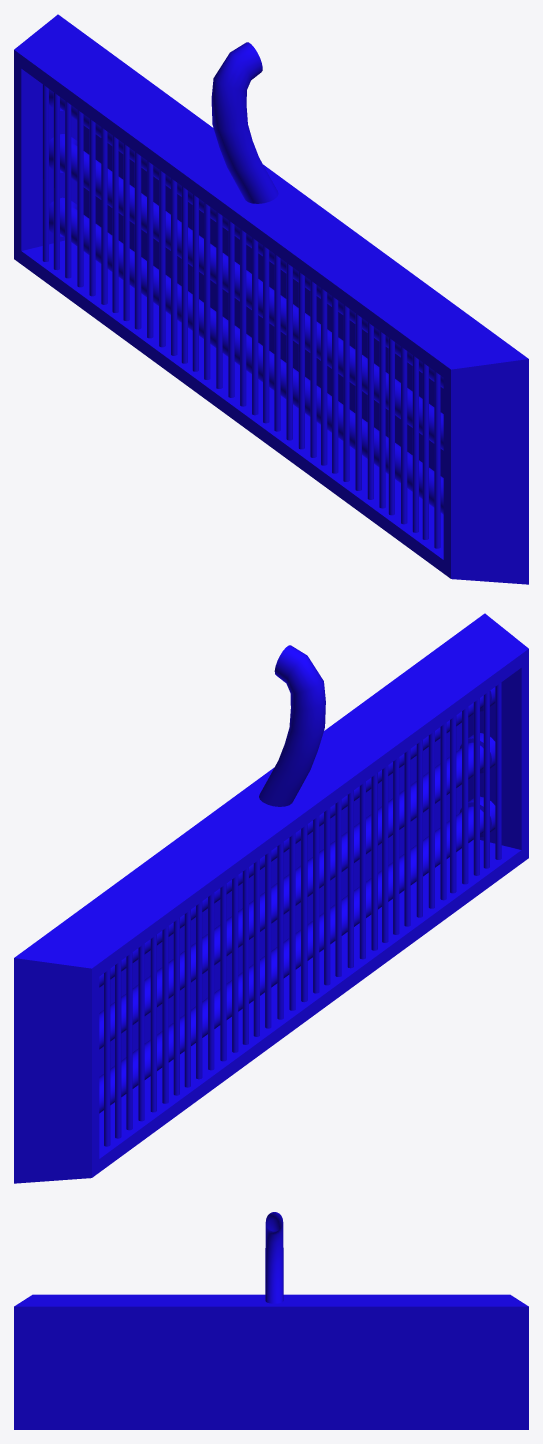
The model's file is light.fbx.
3 views of the same model, one above another, from view 1: azimuth 30°, elevation 25°; view 2: azimuth 150°, elevation 25°; view 3: azimuth 270°, elevation 25° (orthographic). The views are drawn at different scales.
Parts seen in each view (by area): view 1: Light, Cylinder016, Cylinder017, Cylinder053, Cylinder015, Cylinder026, Cylinder019, Cylinder022, Cylinder048, Cylinder050, Cylinder018, Cylinder025 (+28 smaller); view 2: Light, Cylinder016, Cylinder017, Cylinder053, Cylinder015, Cylinder048, Cylinder020, Cylinder026, Cylinder029, Cylinder032, Cylinder033, Cylinder036 (+28 smaller); view 3: Light, Cylinder053.
Part boxes in pixels (box(x1,y1,x2,y2)): Light: box(14, 14, 528, 584); Cylinder016: box(49, 134, 443, 450); Cylinder017: box(49, 197, 443, 514); Cylinder053: box(211, 42, 278, 203); Cylinder015: box(49, 89, 443, 388); Cylinder026: box(134, 152, 141, 329); Cylinder019: box(53, 92, 59, 270); Cylinder022: box(89, 118, 95, 296); Cylinder048: box(388, 338, 394, 515); Cylinder050: box(412, 355, 418, 532); Cylinder018: box(42, 84, 48, 261); Cylinder025: box(123, 143, 129, 321); Light: box(14, 613, 528, 1183); Cylinder016: box(99, 733, 495, 1049); Cylinder017: box(99, 796, 495, 1113); Cylinder053: box(259, 645, 325, 806); Cylinder015: box(99, 687, 495, 987); Cylinder048: box(450, 715, 456, 893); Cylinder020: box(126, 952, 132, 1130); Cylinder026: box(196, 901, 202, 1079); Cylinder029: box(232, 875, 238, 1052); Cylinder032: box(265, 851, 271, 1028); Cylinder033: box(277, 842, 283, 1019); Cylinder036: box(313, 816, 319, 993); Light: box(14, 1294, 528, 1429); Cylinder053: box(265, 1212, 283, 1303).
Size of the model in its own units: 3.5 by 16.35 by 37.04.
